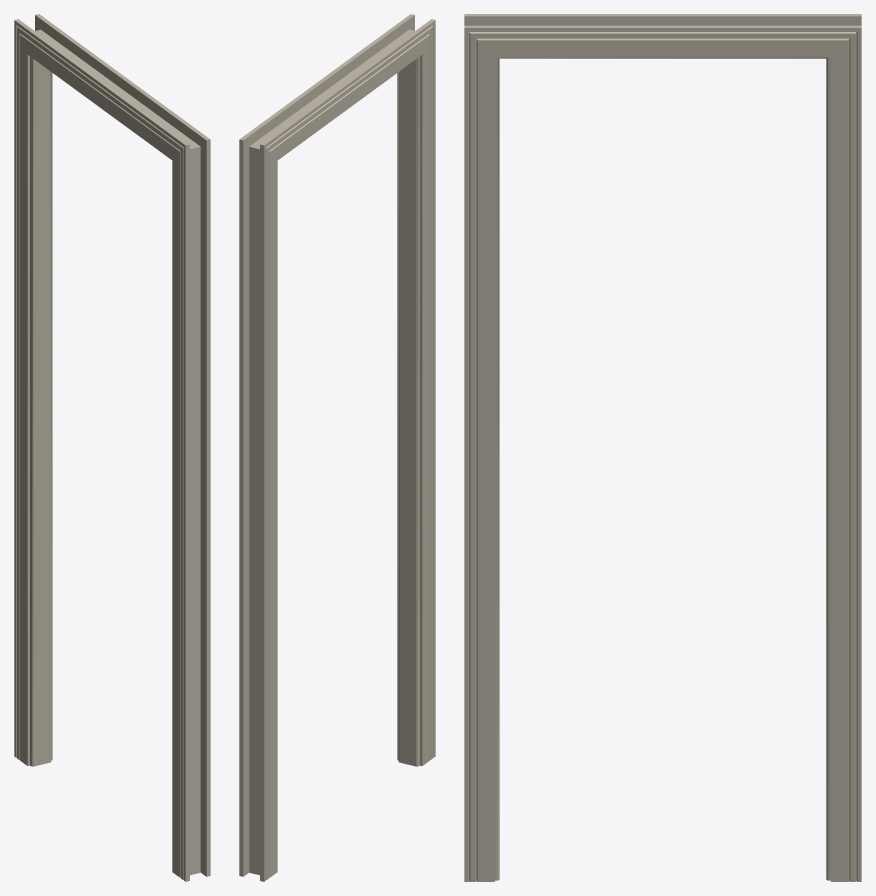
The model's file is 37_VIENNA_Frame.glb.
3 views of the same model, side by side, from view 1: azimuth 30°, elevation 25°; view 2: azimuth 150°, elevation 25°; view 3: azimuth 270°, elevation 25° (orthographic). The views are drawn at different scales.
Visible parts, largest first — view 1: 37_VIENNA_Frame; view 2: 37_VIENNA_Frame; view 3: 37_VIENNA_Frame.
Boxes of the visible parts, left/top/right/bottom form: 37_VIENNA_Frame: left=14, top=14, right=210, bottom=881; 37_VIENNA_Frame: left=239, top=14, right=435, bottom=881; 37_VIENNA_Frame: left=464, top=14, right=861, bottom=881.
Bounding box in the file's own units: 0.0816 × 2.31 × 0.9734.
